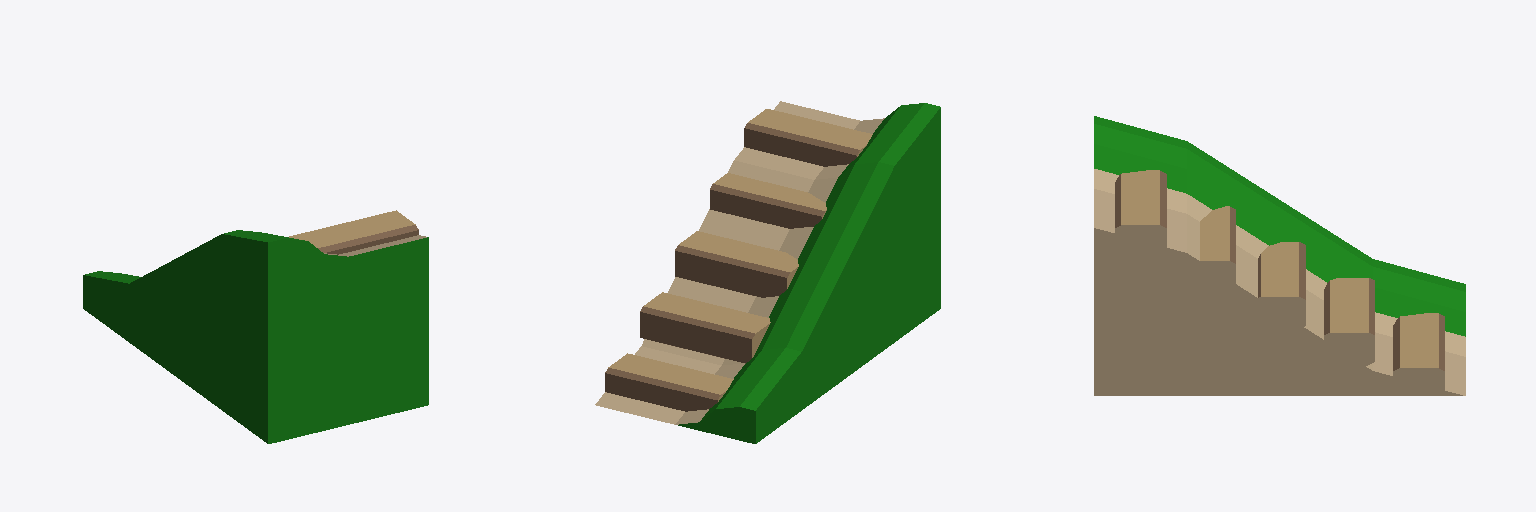
Rendered from Path_Hill_Sharp_Side.obj.
3 renders of one model, left to right at view 1: azimuth 30°, elevation 25°; view 2: azimuth 150°, elevation 25°; view 3: azimuth 270°, elevation 25°, orthographic.
Parts seen in each view (by area): view 1: object1; view 2: object1; view 3: object1.
Part boxes in pixels (x1,y1,x2,y2): object1: (83, 210, 428, 443); object1: (595, 101, 940, 443); object1: (1094, 116, 1465, 395).
Bounding box in the file's own units: 1 × 1.2 × 2.